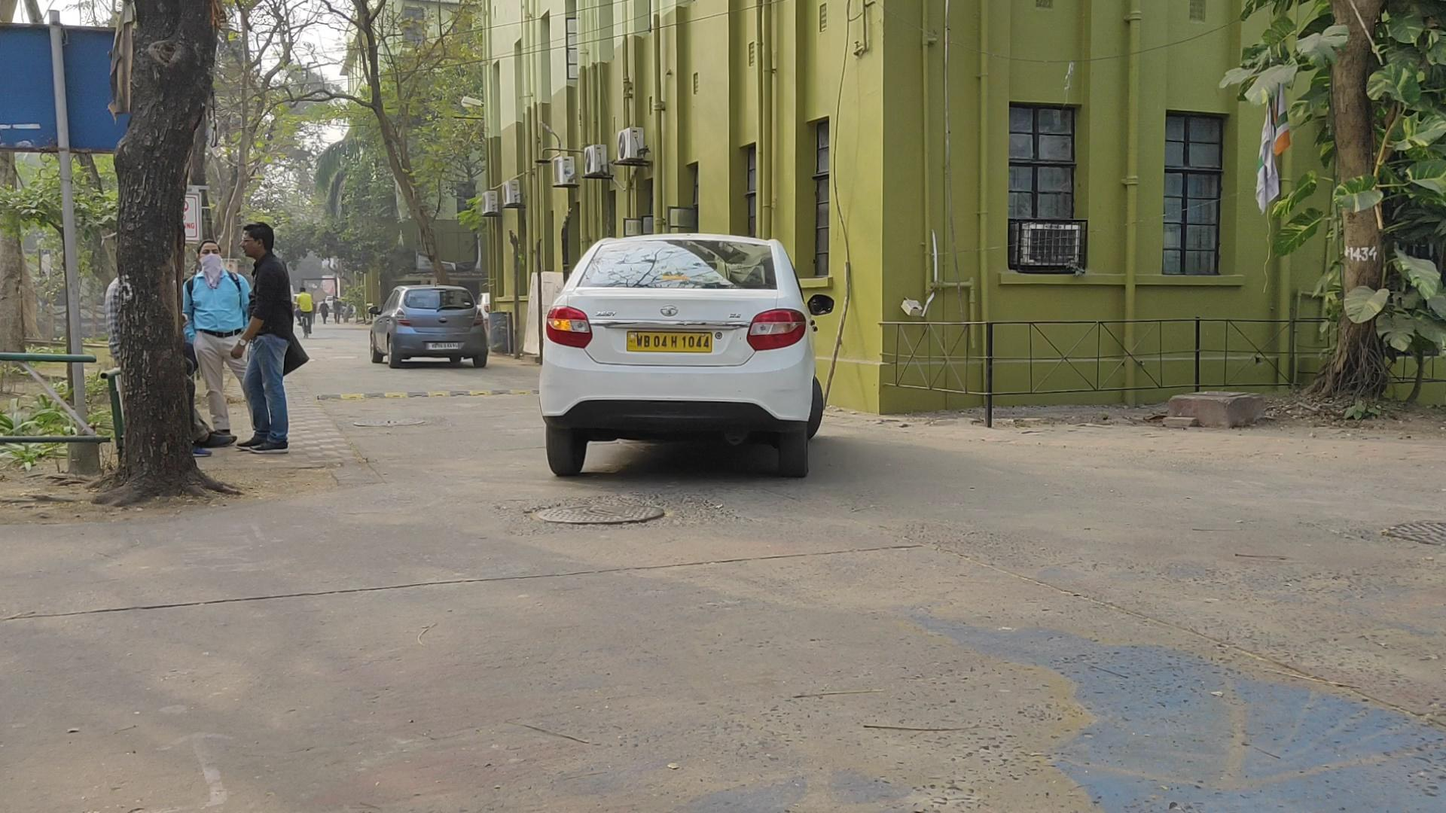bike: (294, 287, 316, 340)
car: (536, 235, 825, 479), (368, 283, 490, 373)
